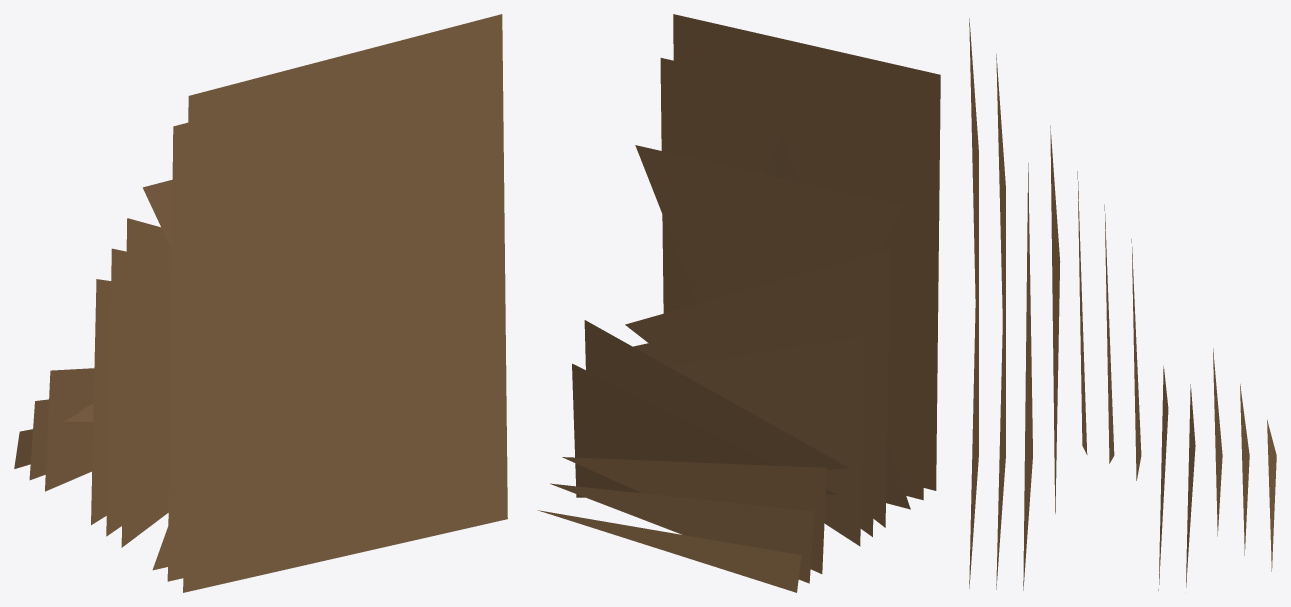
The model's file is harbor-stairs.lod2.glb.
3 renders of one model, left to right at view 1: azimuth 30°, elevation 25°; view 2: azimuth 150°, elevation 25°; view 3: azimuth 270°, elevation 25°, orthographic. The views are drawn at different scales.
Visible parts, largest first — view 1: harbor-stairs__body; view 2: harbor-stairs__body; view 3: harbor-stairs__body.
Boxes of the visible parts, x1,y1,x2,y2 form: harbor-stairs__body: (14,14,507,592); harbor-stairs__body: (537,14,940,592); harbor-stairs__body: (969,18,1276,590).
Size of the model in its own units: 2 by 3 by 1.89.
